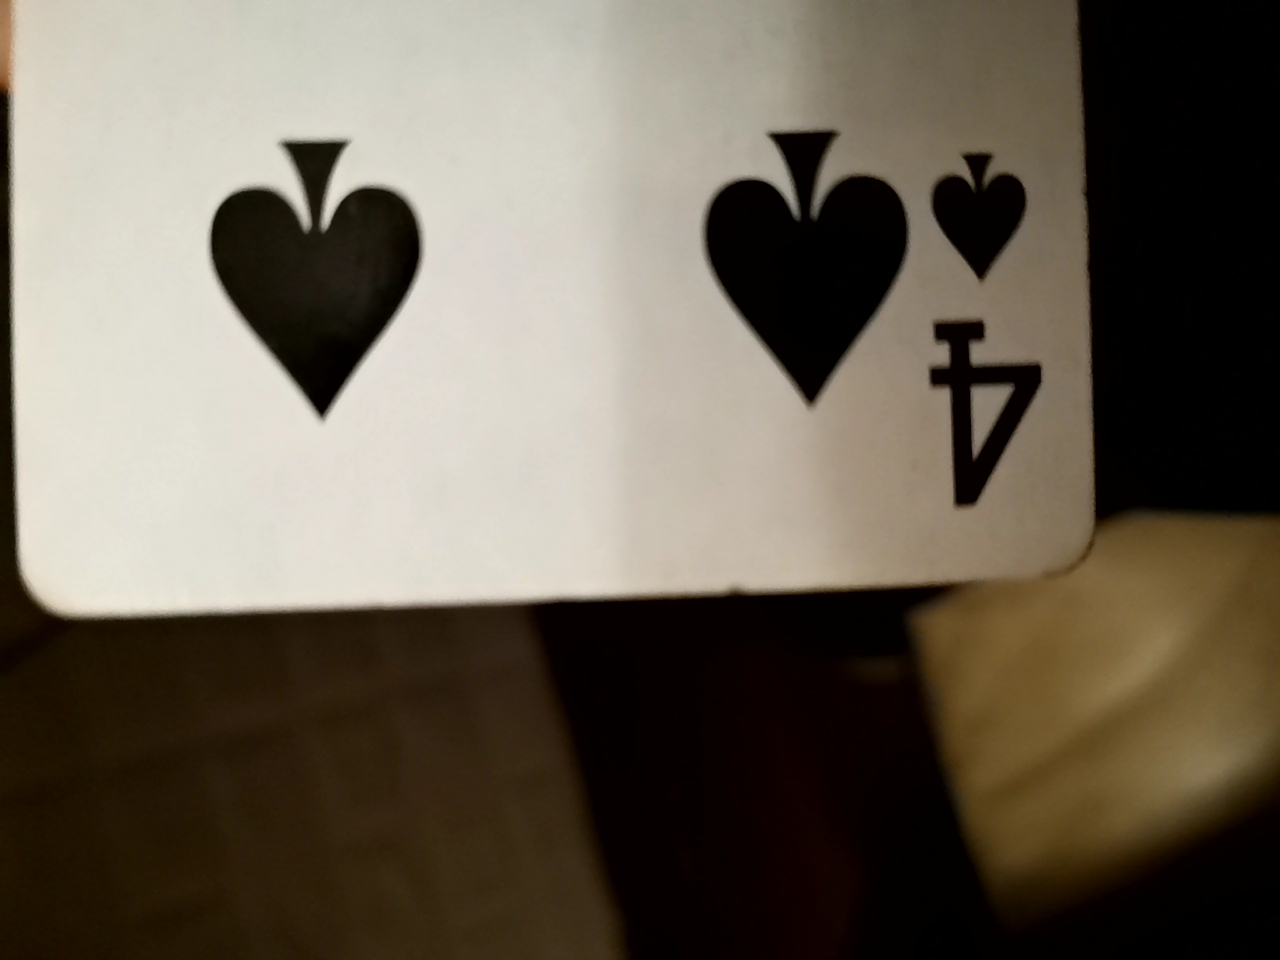ht 4: (2, 17, 1120, 662)
